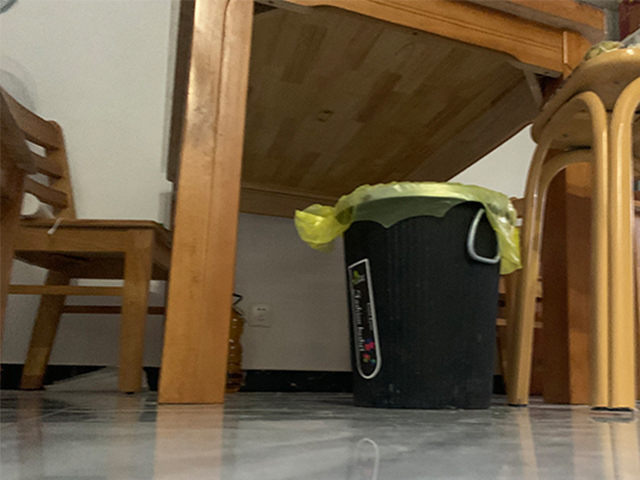stool: (1, 87, 172, 395), (505, 46, 640, 413)
table: (158, 1, 610, 406)
trashcan: (334, 181, 512, 410)
